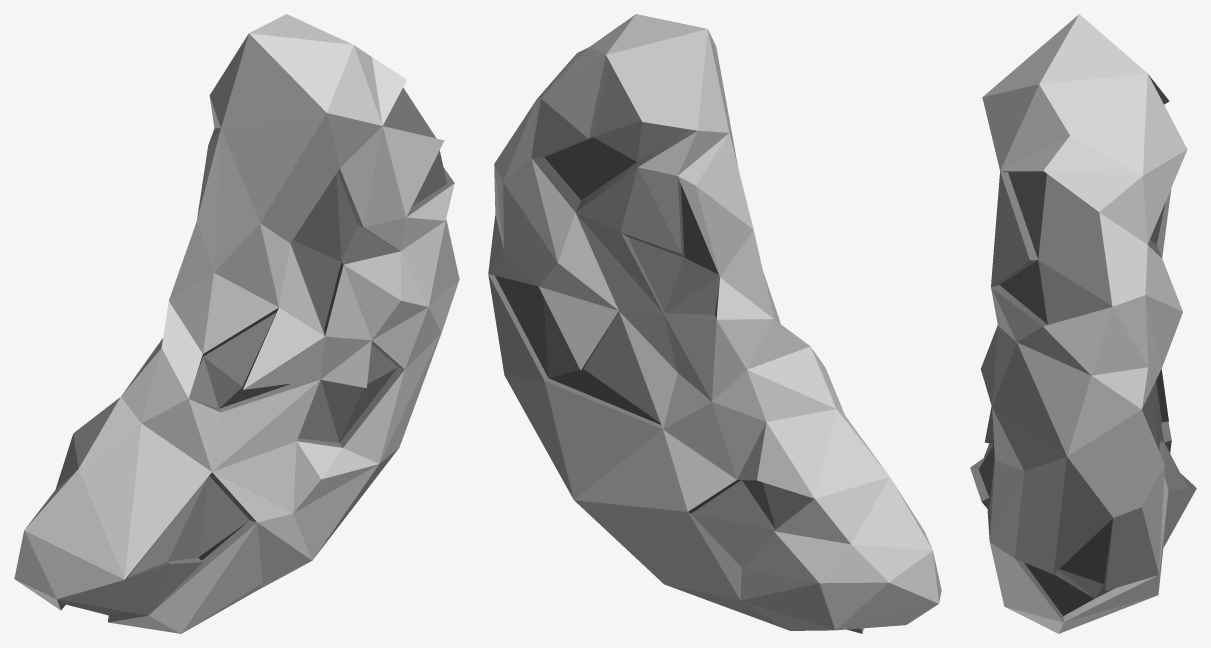
The model's file is Moon.fbx.
3 renders of one model, left to right at view 1: azimuth 30°, elevation 25°; view 2: azimuth 150°, elevation 25°; view 3: azimuth 270°, elevation 25°, orthographic. The views are drawn at different scales.
Visible parts, largest first — view 1: Group43438; view 2: Group43438; view 3: Group43438.
Part boxes in pixels (x1=…): Group43438: x1=14, y1=14, x2=459, y2=633; Group43438: x1=488, y1=14, x2=941, y2=633; Group43438: x1=970, y1=14, x2=1196, y2=633.
Bounding box in the file's own units: 329 × 401 × 132.
